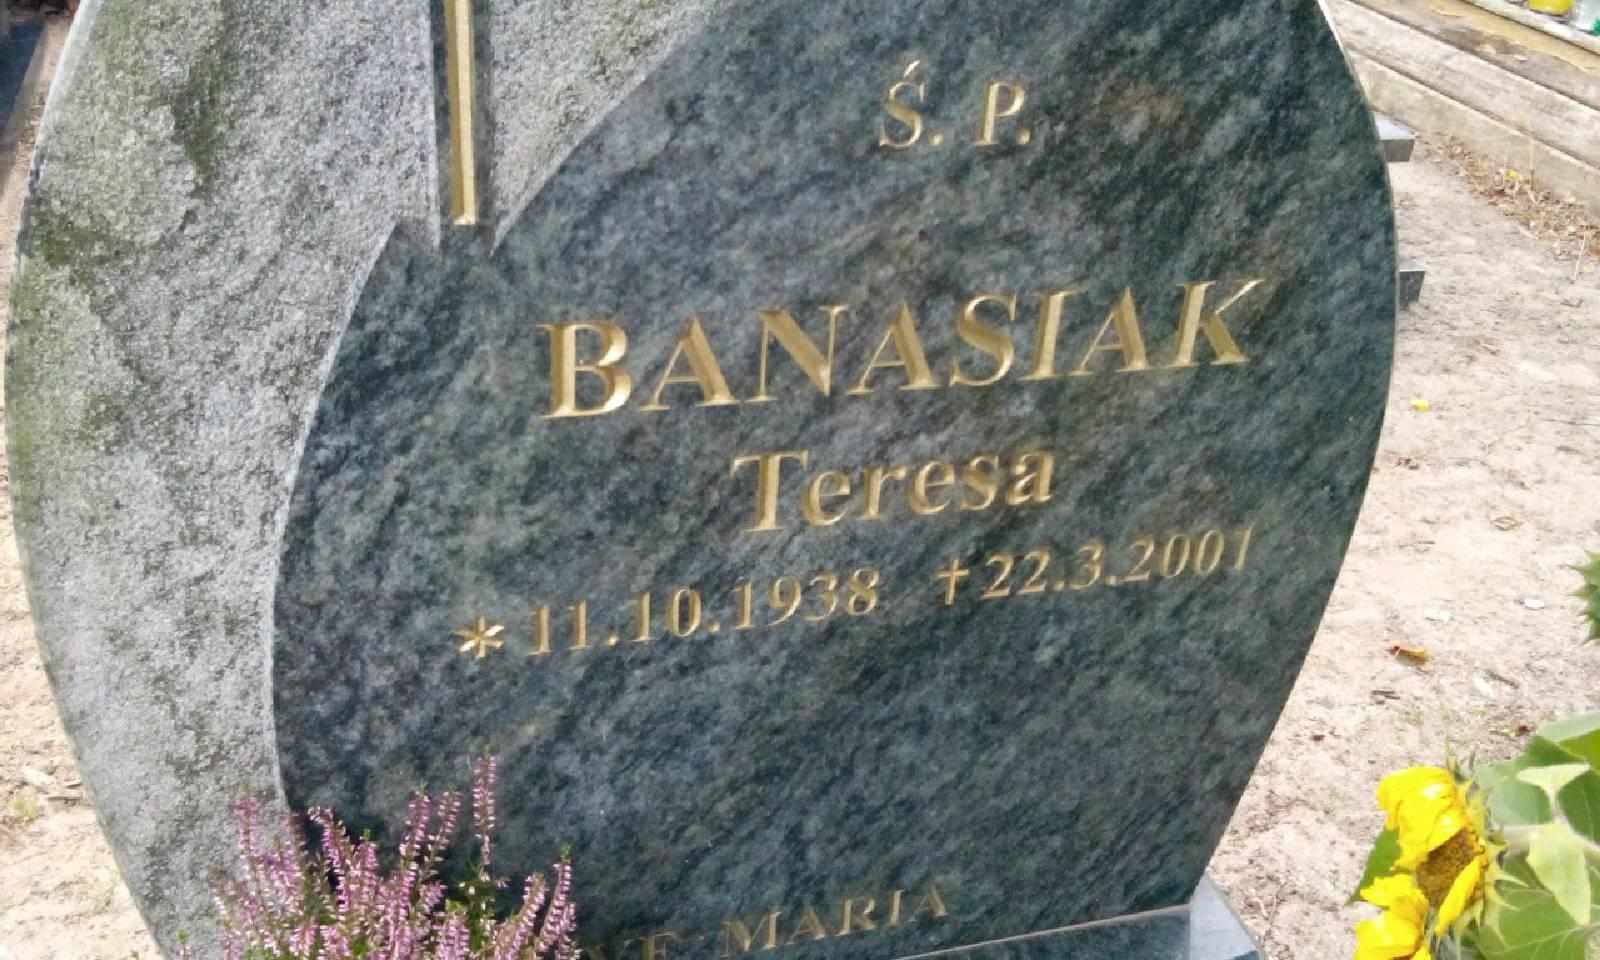upright: (0, 2, 1409, 953)
